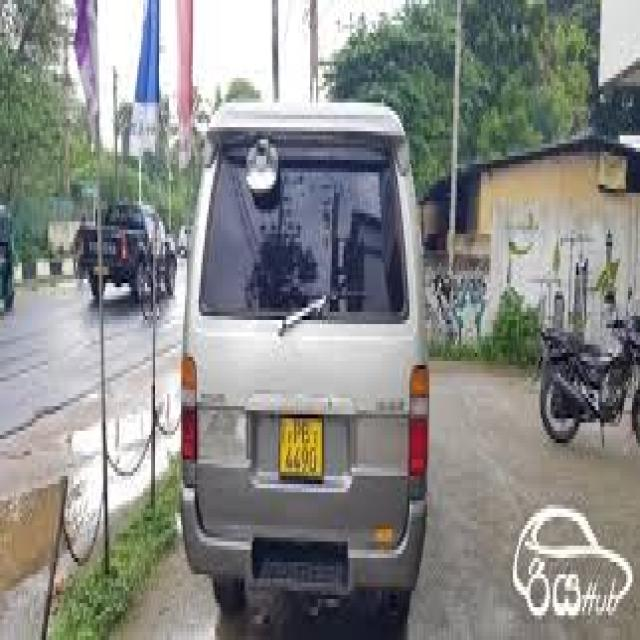van: (181, 103, 427, 615)
